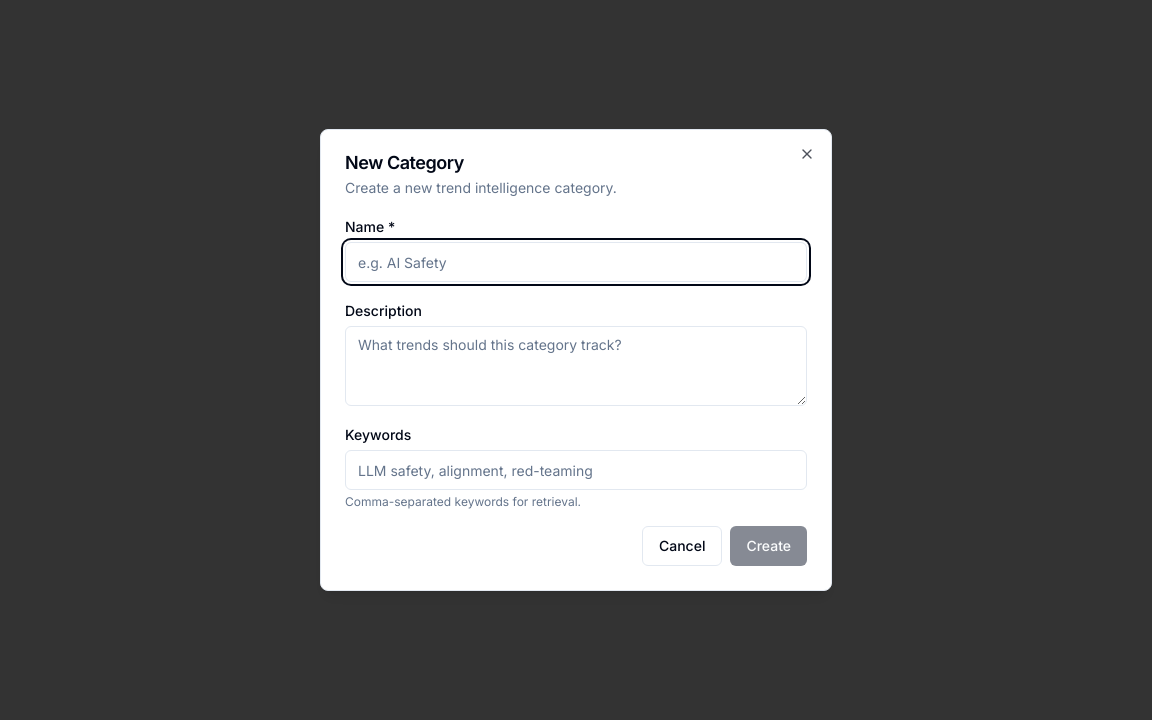
Test: CategoryForm — create mode › enables Create button once name is entered
Type "AI Safety" into the field labelled "Name *".
click(576, 262); type("AI Safety")  # box x1=345 y1=242 x2=807 y2=282
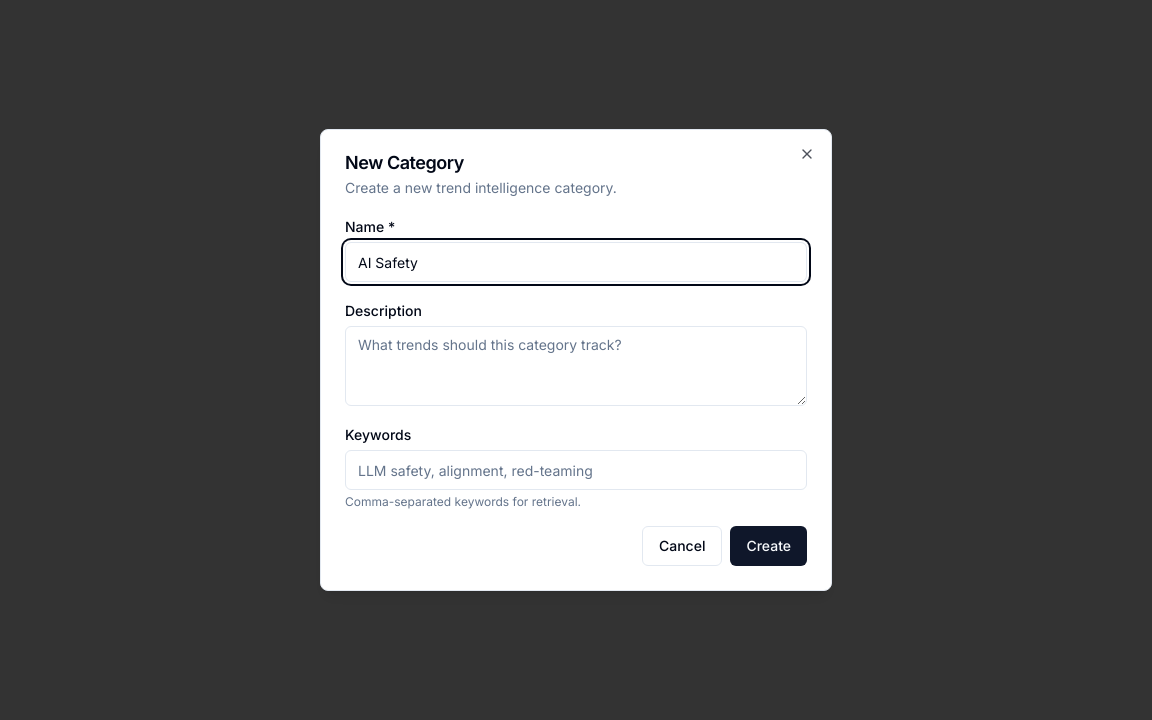
Check: the button "Create" is enabled, box x1=730 y1=526 x2=807 y2=566
